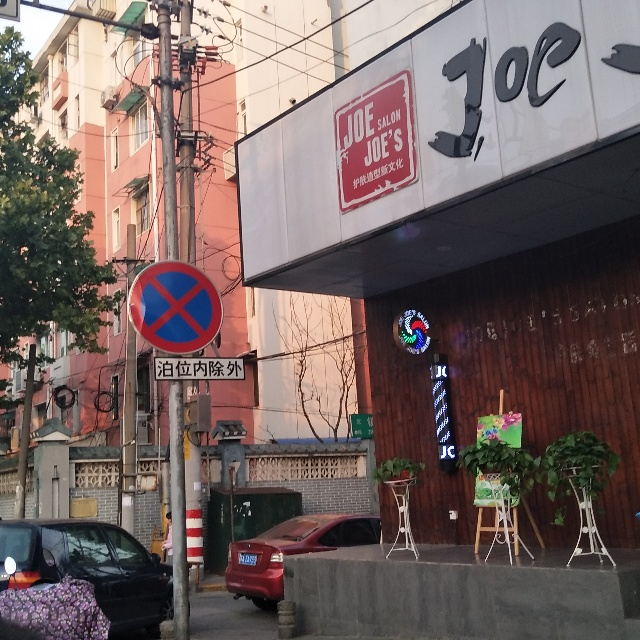stop: (132, 264, 219, 356)
